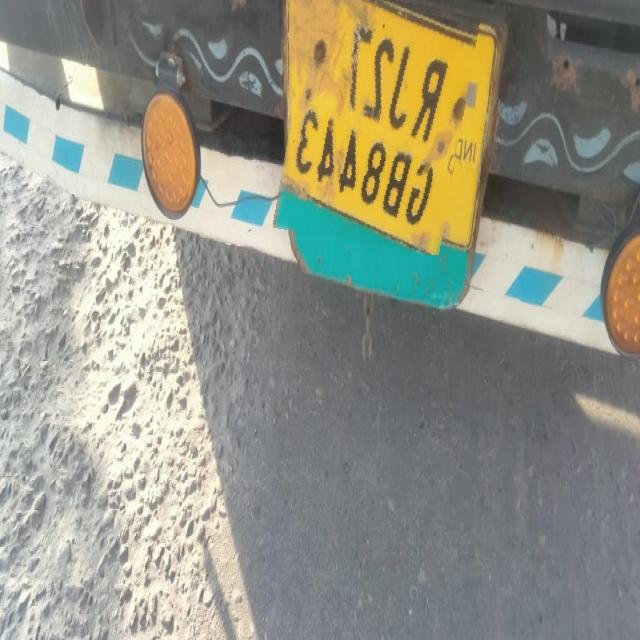License-plate: (283, 0, 471, 249)
